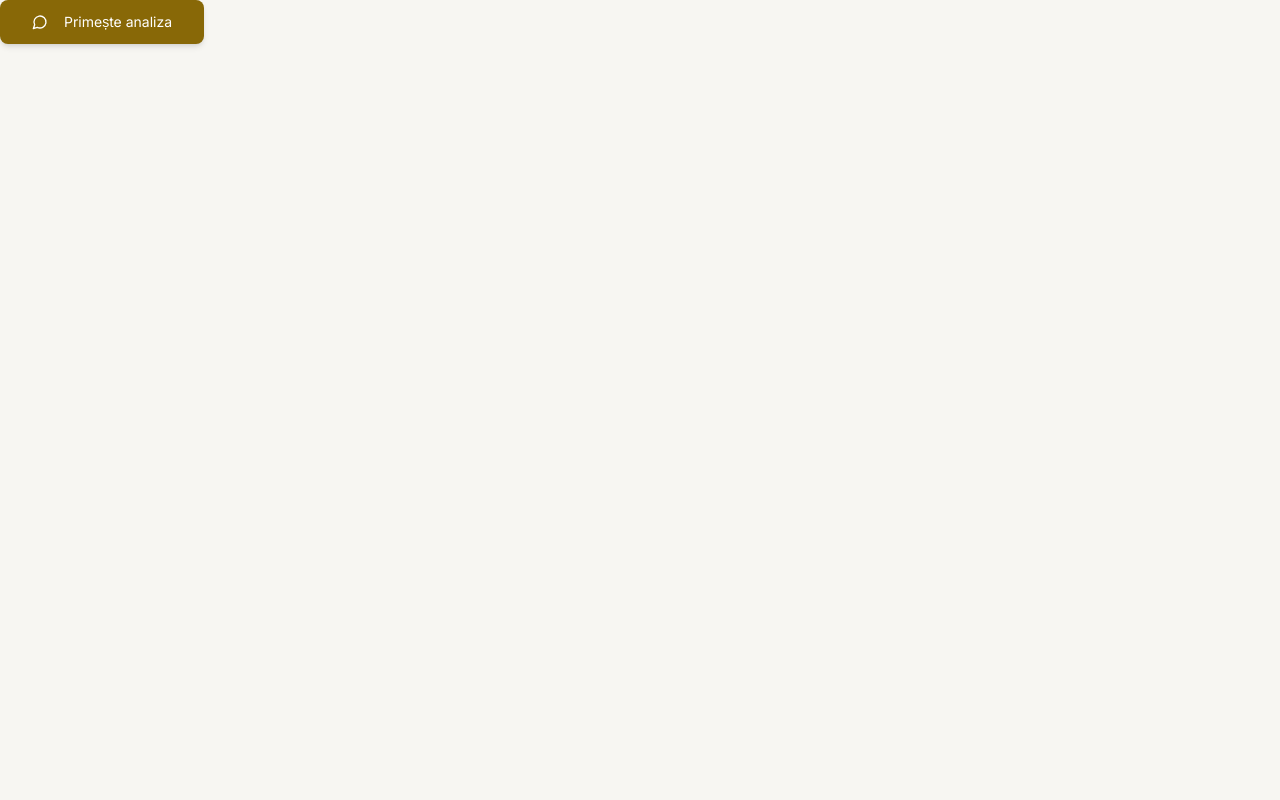
CalculatorLeadForm › keeps the submission id when an interrupted save is retried
Later steps or results of the test are not shown.
Click the button "Primește analiza" at coordinates (102, 22), box [0,0,204,44]
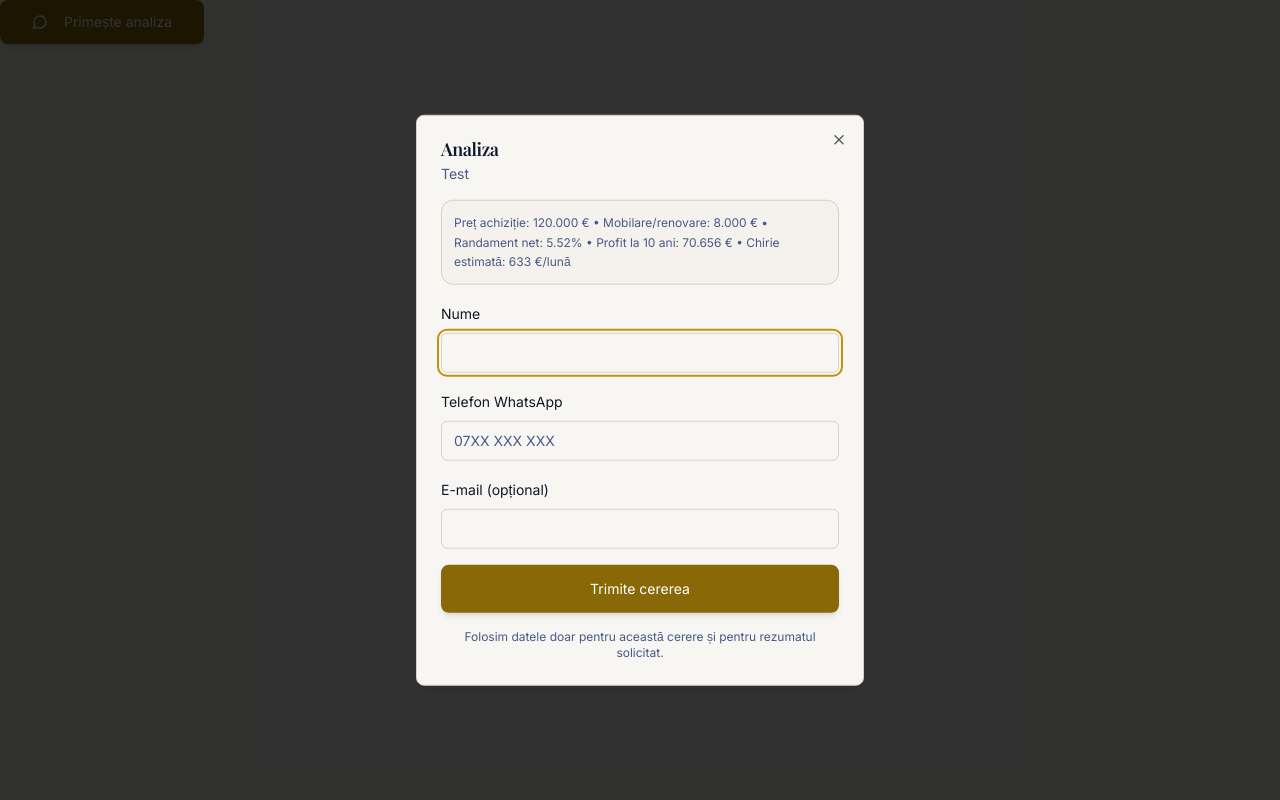
Type "Test Investitor" into the field labelled "Nume" at coordinates (640, 352), box [441,332,839,372]
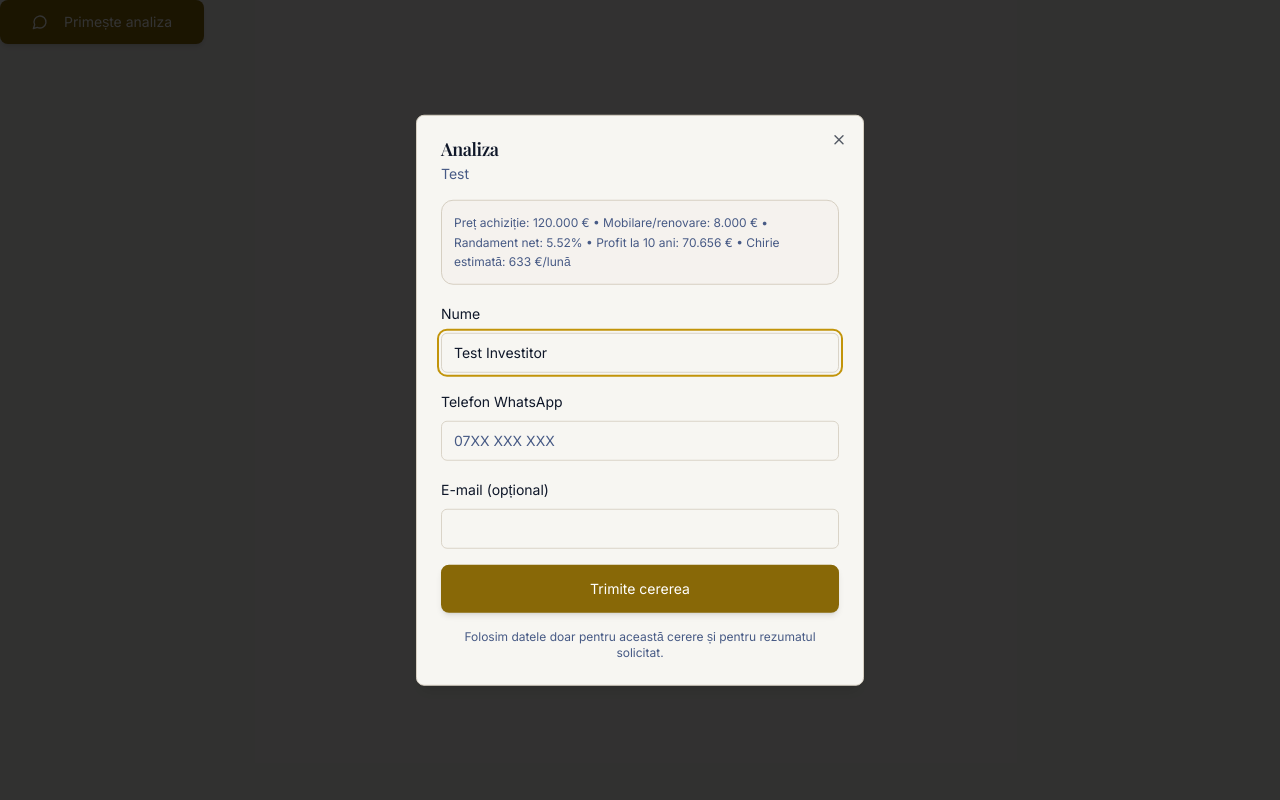
Type "0723 154 520" into the field labelled "Telefon WhatsApp" at coordinates (640, 440), box [441,420,839,460]
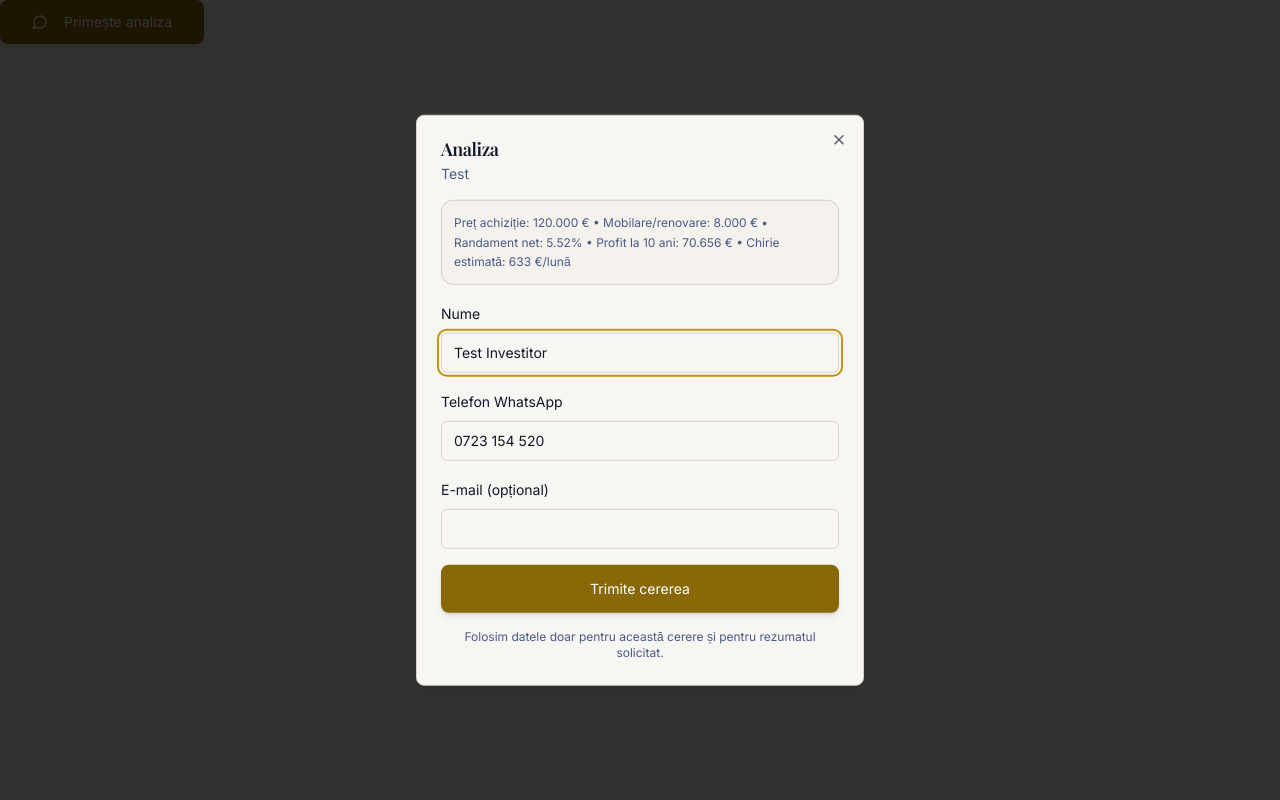
Click the button "Trimite cererea" at coordinates (640, 588), box [441,564,839,612]
Result: the button "Trimite cererea" is enabled at [441,564,839,612]
